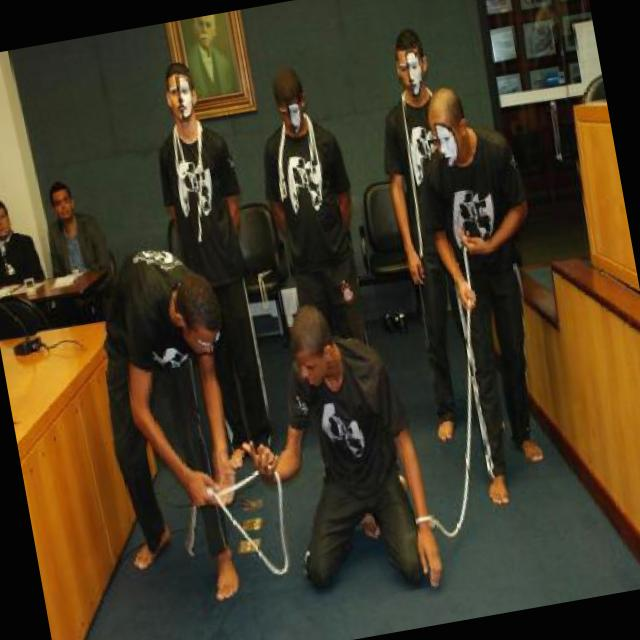Person: (402, 76, 580, 510), (218, 287, 446, 616), (80, 240, 271, 613), (138, 52, 290, 474), (360, 19, 508, 443), (240, 54, 378, 353), (37, 171, 111, 277), (177, 11, 240, 100), (0, 189, 47, 290)
